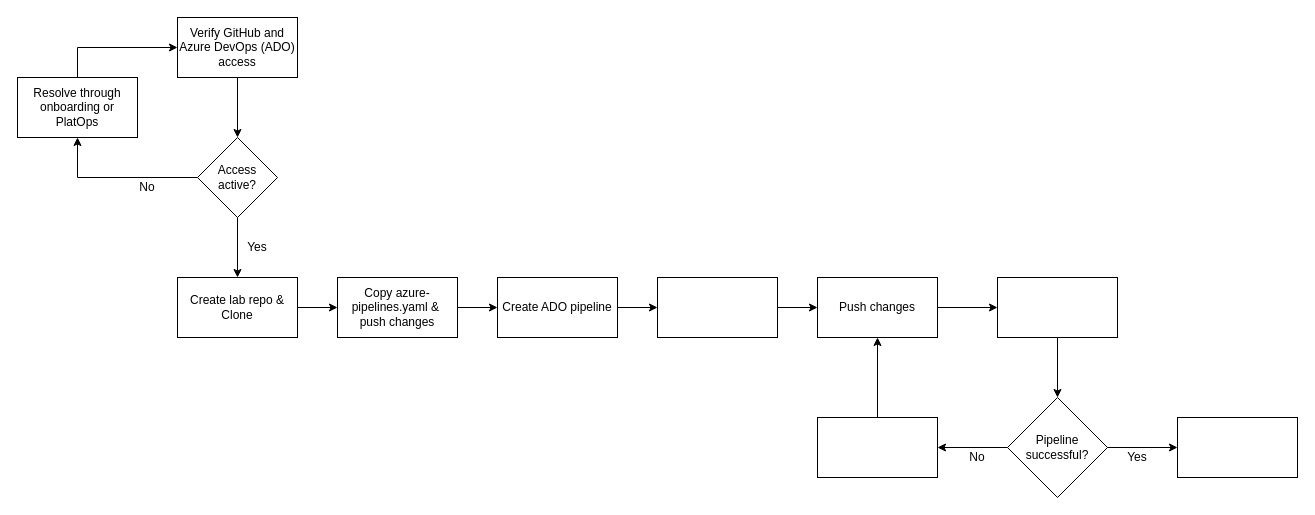
Some shapes in this 1315 by 515 pixel diagram are drawn without their labels. Here are the shapes that lost their labels. From the top down, the centre of each, then its label:
At pixel 717 307: "Copy Terraform lab files & customise".
At pixel 1057 307: "Run pipeline".
At pixel 877 447: "Review logs and correct configuration".
At pixel 1237 447: "Verify pipeline and Azure resources".
